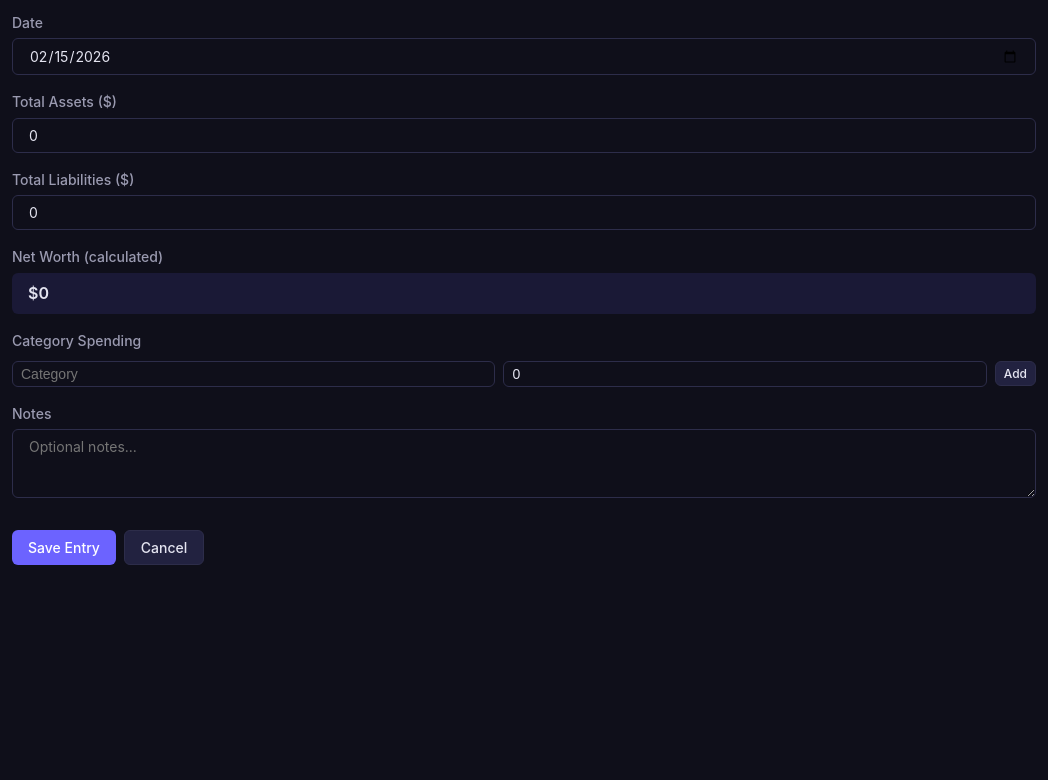
it: FinanceForm › supports adding spending categories
Type "Groceries" into the field with test id "category-name" at (254, 374), box [12,360,495,386]
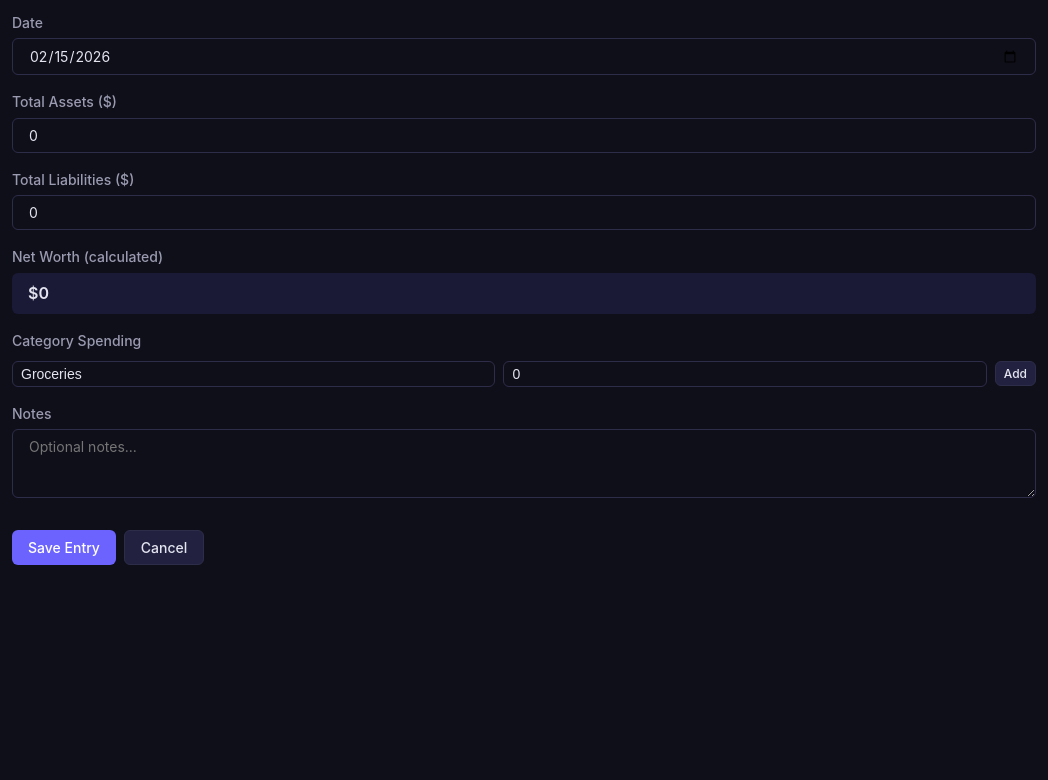
Replace the text in the number field with test id "category-amount" with "500" at (745, 374), box [503,360,987,386]
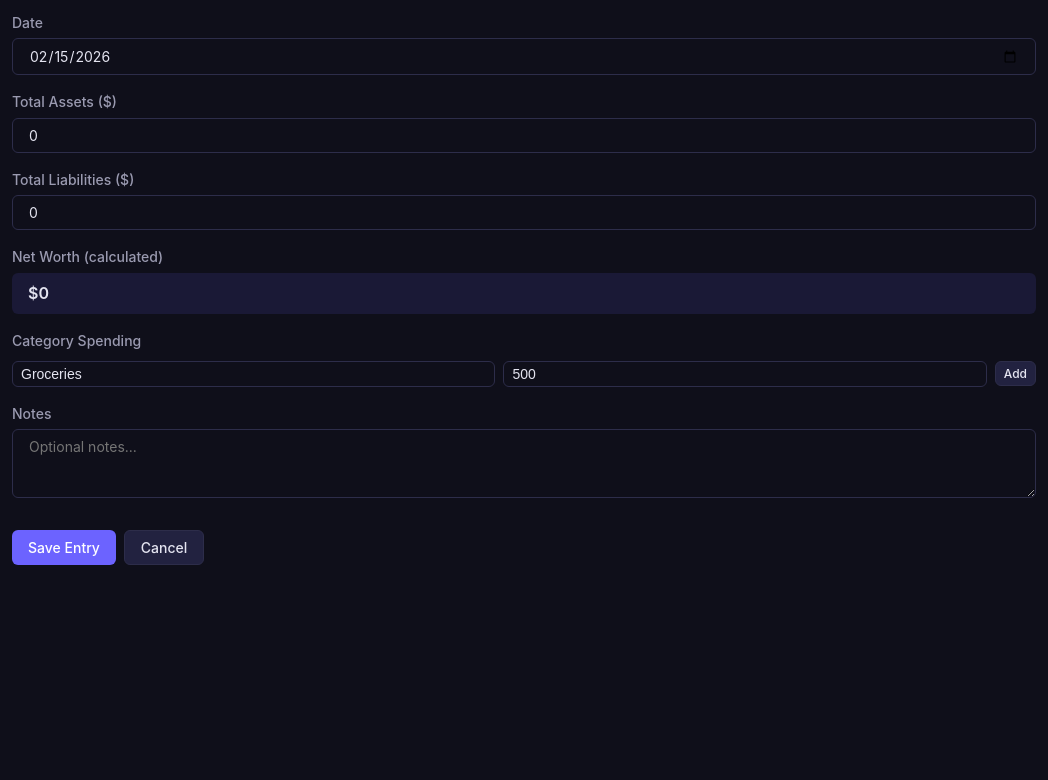
Click the button "Add" at (1015, 374), box [995,361,1036,386]
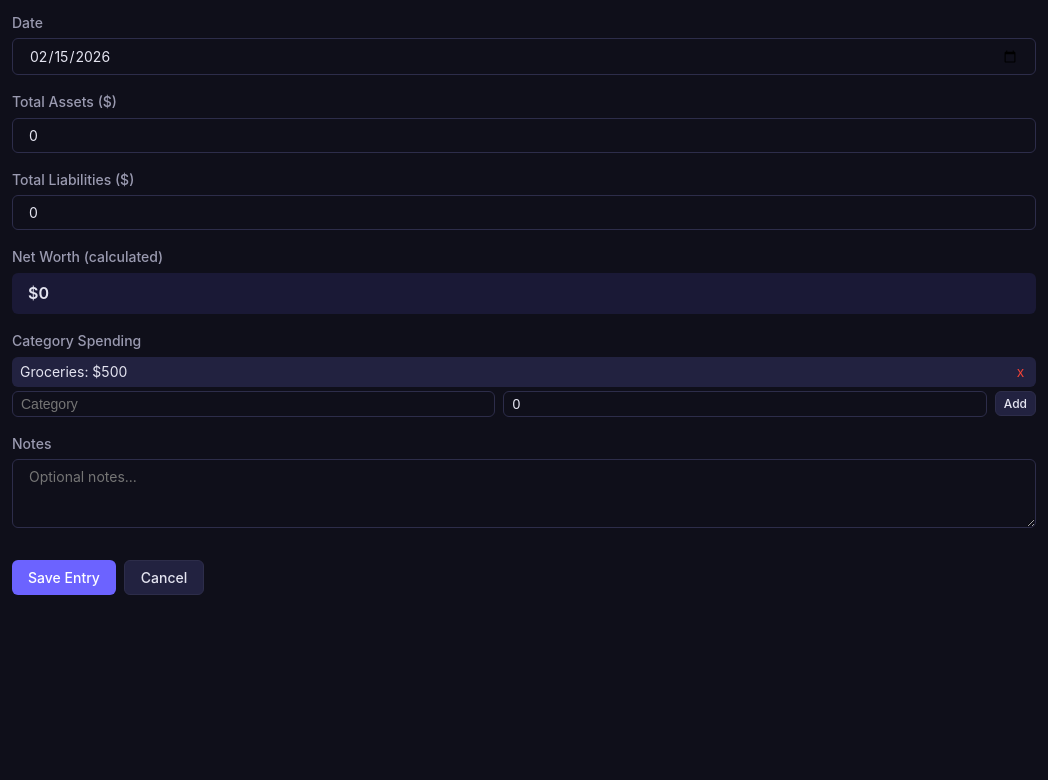
expect the text "Groceries" is shown: met, box [20,362,127,380]
expect the text "500" is shown: met, box [20,362,127,380]
